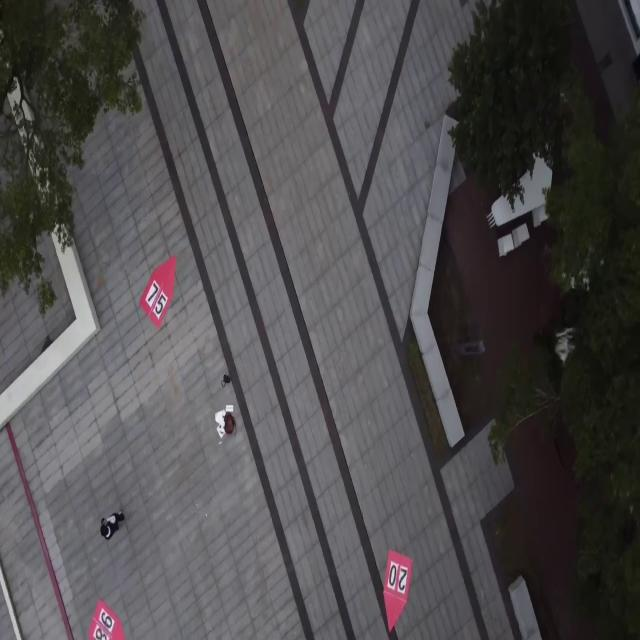-sign-: (138, 253, 176, 330), (382, 548, 412, 633), (88, 600, 127, 639)
